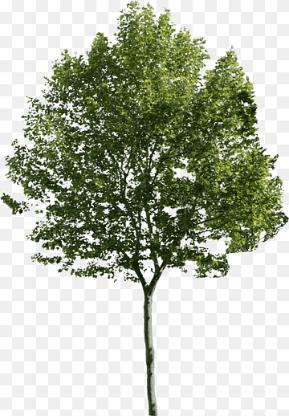tree: (3, 0, 289, 416)
